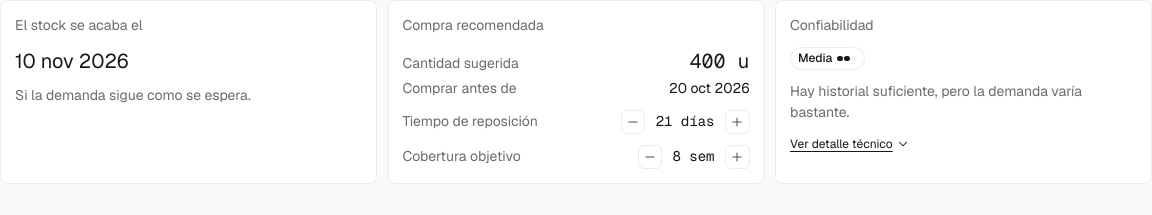
Test case: ProductSummaryCards › technical detail is a disclosure, closed by default
Expected: the text "MAPE" is not shown
Click the button "Ver detalle técnico" at (850, 144), box 790,135 -> 910,153
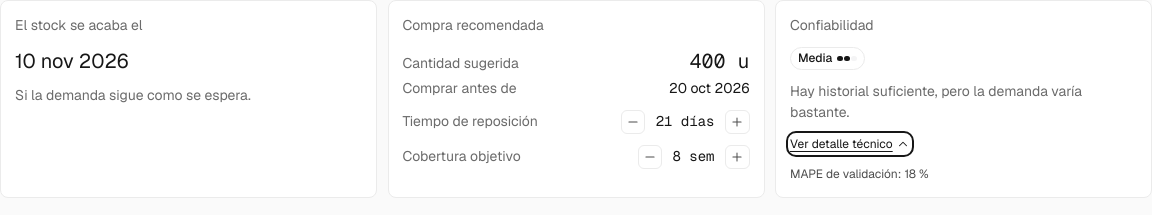
Expected: the button "Ver detalle técnico" is expanded, 790,135 -> 910,153
Expected: the text "MAPE de validación: 18 %" is shown, 790,166 -> 929,182
